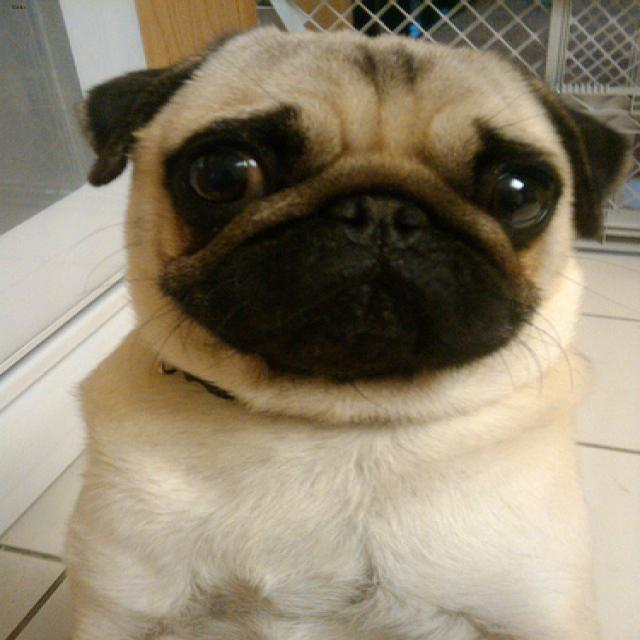dog-pug: (56, 19, 637, 637)
